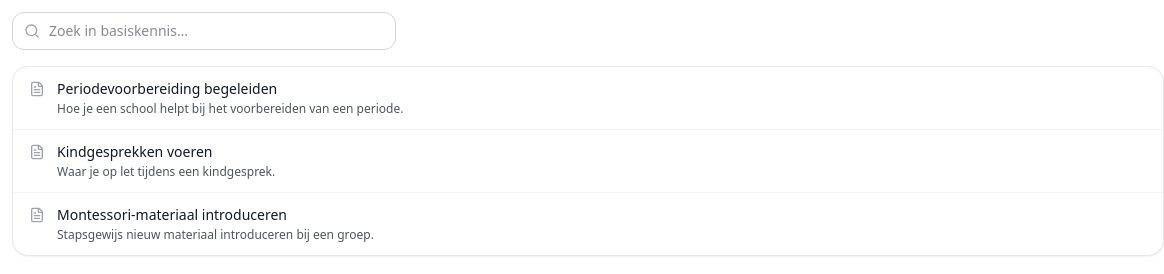
Scenario: KennisLijstClient — zoekbalk › filtert case-insensitief op titel, volgorde blijft behouden
Type "montessori" into the search field labelled "Zoek in basiskennis" at {"x": 204, "y": 31}, box [12, 12, 396, 50]
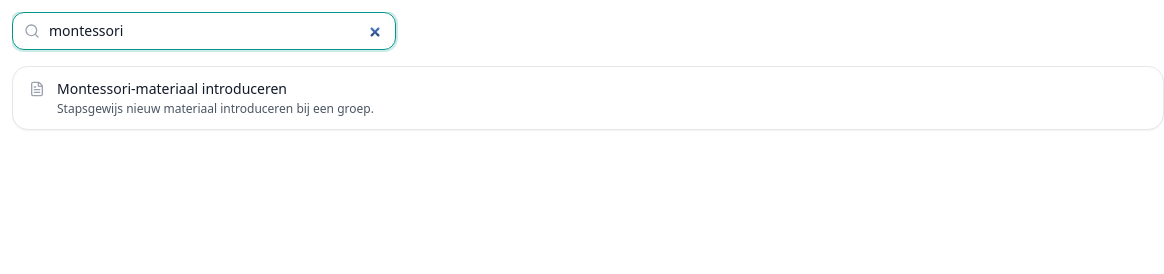
Expected: the link shows "Montessori-materiaal introduceren", [29, 79, 374, 117]
Expected: the number of links is 1, [29, 79, 374, 117]
